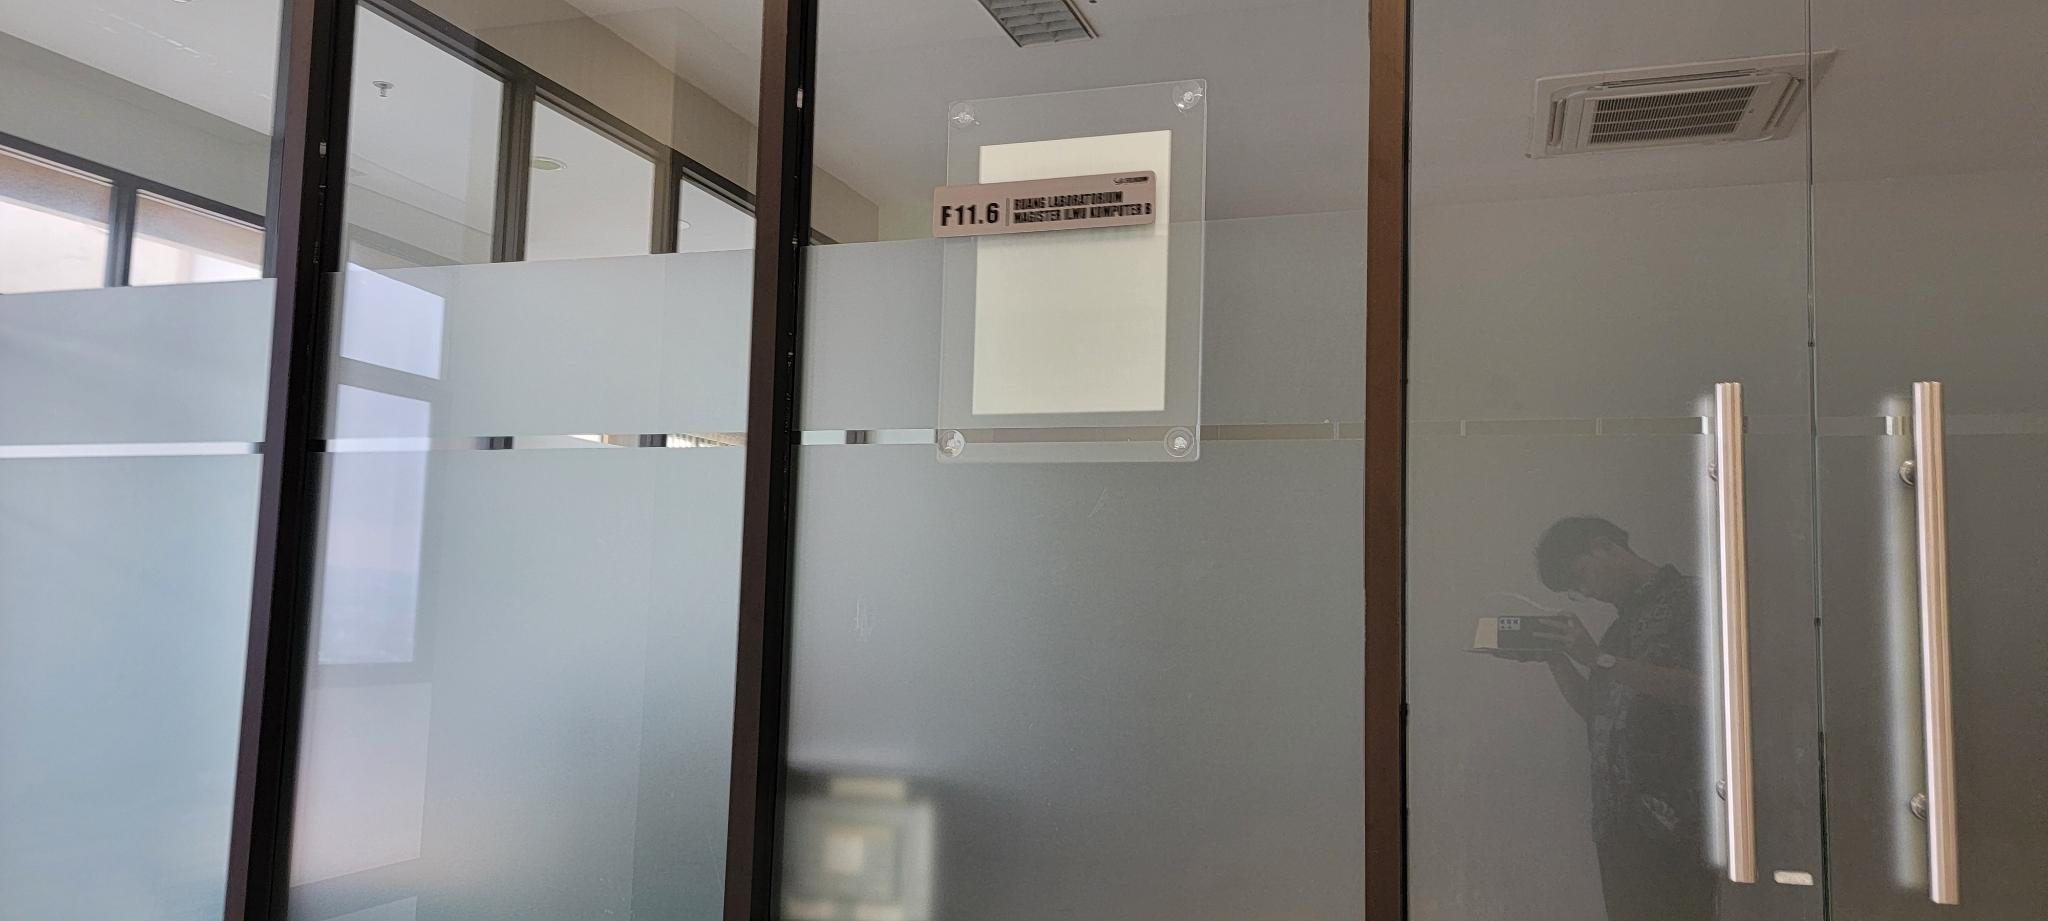plate: (931, 171, 1157, 242)
